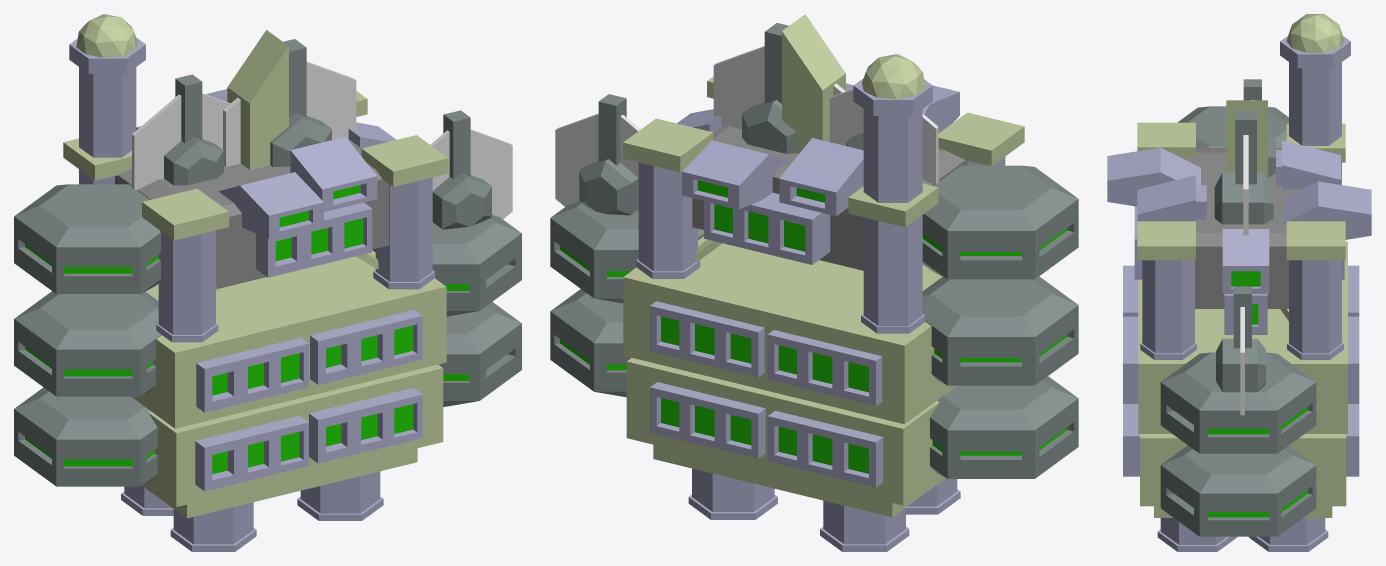
The model's file is colony center essai 2.fbx.
3 renders of one model, left to right at view 1: azimuth 30°, elevation 25°; view 2: azimuth 150°, elevation 25°; view 3: azimuth 270°, elevation 25°, orthographic. The views are drawn at different scales.
Visible parts, largest first — view 1: Cube.019, Cylinder.008, Cylinder.009, Cylinder.010, Cylinder.012, Cylinder.001, Cylinder.011, Cube, Cylinder.002, Cube.023, Cube.022, Cube.021 (+23 smaller); view 2: Cube.019, Cylinder.008, Cylinder.009, Cylinder.001, Cylinder.010, Cylinder.012, Cylinder.011, Cube.022, Cube.001, Cube.023, Cube.021, Cylinder (+21 smaller); view 3: Cube.019, Cylinder.011, Cylinder.012, Cube, Cylinder.001, Cylinder.003, Cylinder, Cube.018, Cube.017, Cube.014, Cube.015, Cylinder.007 (+20 smaller).
Boxes of the visible parts, left/top/right/bottom form: Cube.019: left=131, top=250, right=446, bottom=518; Cylinder.008: left=14, top=184, right=160, bottom=293; Cylinder.009: left=14, top=291, right=161, bottom=396; Cylinder.010: left=14, top=387, right=157, bottom=486; Cylinder.012: left=372, top=215, right=521, bottom=316; Cylinder.001: left=69, top=37, right=145, bottom=184; Cylinder.011: left=438, top=302, right=521, bottom=406; Cube: left=115, top=139, right=389, bottom=288; Cylinder.002: left=156, top=230, right=218, bottom=342; Cube.023: left=309, top=388, right=422, bottom=463; Cube.022: left=195, top=415, right=308, bottom=491; Cube.021: left=196, top=337, right=308, bottom=412; Cube.019: left=623, top=236, right=956, bottom=517; Cylinder.008: left=922, top=165, right=1078, bottom=279; Cylinder.009: left=922, top=276, right=1078, bottom=385; Cylinder.001: left=853, top=78, right=932, bottom=333; Cylinder.010: left=930, top=376, right=1078, bottom=478; Cylinder.012: left=550, top=201, right=703, bottom=303; Cylinder.011: left=550, top=289, right=631, bottom=397; Cube.022: left=767, top=410, right=883, bottom=487; Cube.001: left=704, top=192, right=830, bottom=264; Cube.023: left=650, top=382, right=765, bottom=458; Cube.021: left=767, top=330, right=882, bottom=405; Cylinder: left=636, top=162, right=700, bottom=278; Cube.019: left=1138, top=241, right=1347, bottom=517; Cylinder.011: left=1160, top=445, right=1316, bottom=536; Cylinder.012: left=1160, top=352, right=1316, bottom=453; Cube: left=1181, top=148, right=1300, bottom=308; Cylinder.001: left=1280, top=36, right=1350, bottom=184; Cylinder.003: left=1140, top=260, right=1196, bottom=359; Cylinder: left=1287, top=260, right=1343, bottom=359; Cube.018: left=1222, top=229, right=1269, bottom=334; Cube.017: left=1283, top=181, right=1371, bottom=239; Cube.014: left=1107, top=147, right=1200, bottom=206; Cube.015: left=1137, top=175, right=1206, bottom=221; Cylinder.007: left=1214, top=172, right=1273, bottom=224.
Size of the model in its own units: 656 by 632 by 339.
